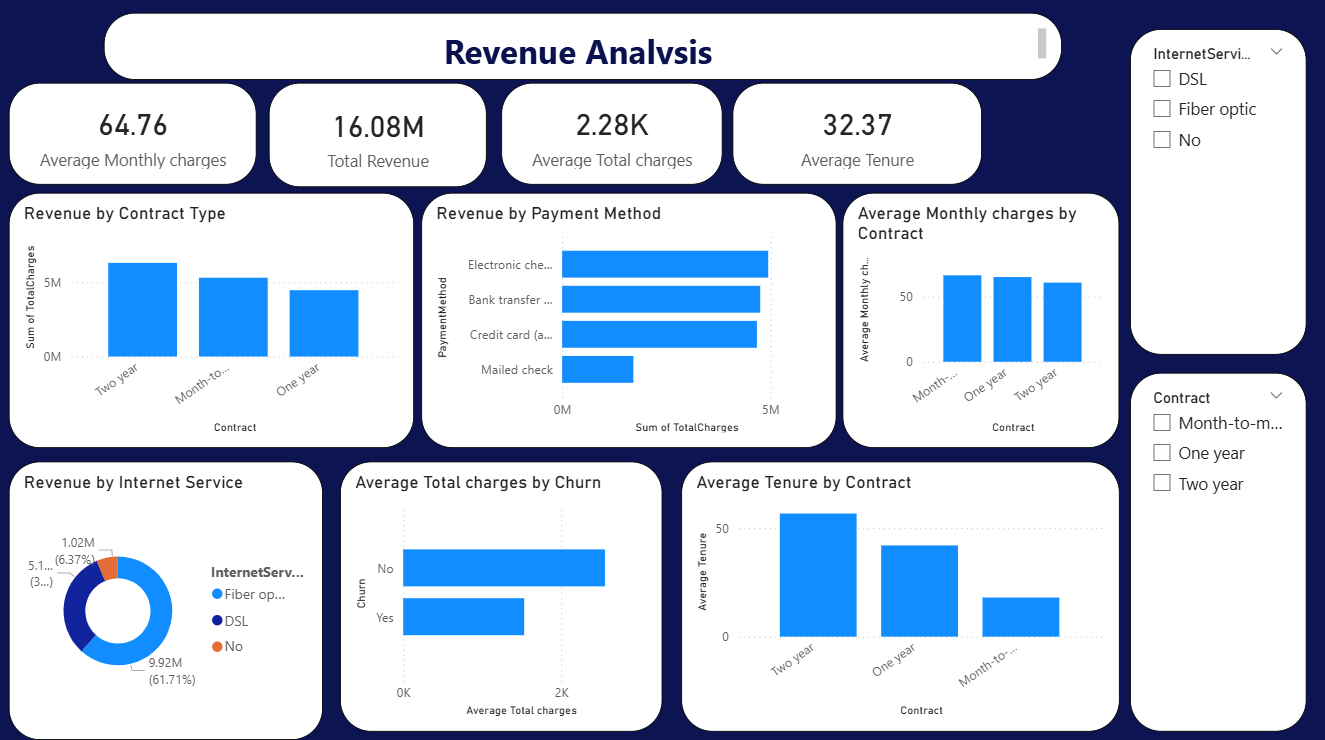

What the dashboard file says about the page in this screenshot:
{"tool":"powerbi","page":{"name":"Revenue Analysis","canvas":[1280,720],"ordinal":3},"visuals":[{"type":"card","fields":{"Values":["customer_churn.Average Monthly charges"]},"box":[8.7,80.8,239.5,98.1],"z":0},{"type":"card","fields":{"Values":["customer_churn.Average Total charges"]},"box":[483.3,80.8,213.5,98.1],"z":1000},{"type":"card","fields":{"Values":["customer_churn.Average Tenure"]},"box":[707,80.8,240.9,98.1],"z":2000},{"type":"card","fields":{"Values":["customer_churn.Total Revenue"]},"box":[259.7,80.8,210.6,101],"z":3000},{"type":"clusteredColumnChart","title":"Revenue by Contract Type","fields":{"Category":["customer_churn.Contract"],"Y":["Sum(customer_churn.TotalCharges)"]},"box":[8.7,187.6,391,246.7],"z":4000},{"type":"clusteredBarChart","title":"Revenue by Payment Method","fields":{"Category":["customer_churn.PaymentMethod"],"Y":["Sum(customer_churn.TotalCharges)"]},"box":[406.9,187.6,401.1,246.7],"z":5000},{"type":"donutChart","title":"Revenue by Internet Service","fields":{"Y":["Sum(customer_churn.TotalCharges)"],"Category":["customer_churn.InternetService"]},"box":[8.2,445.9,303.3,268.9],"z":6000},{"type":"clusteredColumnChart","fields":{"Category":["customer_churn.Contract"],"Y":["customer_churn.Average Monthly charges"]},"box":[813.7,187.6,266.9,246.7],"z":7000},{"type":"clusteredBarChart","fields":{"Category":["customer_churn.Churn"],"Y":["customer_churn.Average Total charges"]},"box":[327.9,445.9,311.5,260.7],"z":8000},{"type":"clusteredColumnChart","fields":{"Category":["customer_churn.Contract"],"Y":["customer_churn.Average Tenure"]},"box":[657.4,445.9,423,260.7],"z":9000},{"type":"slicer","fields":{"Values":["customer_churn.Contract"]},"box":[1090.7,360.7,170.2,346.3],"z":10000},{"type":"slicer","fields":{"Values":["customer_churn.InternetService"]},"box":[1090.2,29.5,170.5,314.8],"z":11000},{"type":"textbox","box":[99.6,13,924.8,64.9],"z":11001}]}

Visuals, with their boxes in screenshot pixels (x1, y1, x2, y2), scaled from the page's 1280x720 canvas onto the 1325x740 screenshot:
card - customer_churn.Average Monthly charges: bbox=(9, 83, 257, 184)
card - customer_churn.Average Total charges: bbox=(500, 83, 721, 184)
card - customer_churn.Average Tenure: bbox=(732, 83, 981, 184)
card - customer_churn.Total Revenue: bbox=(269, 83, 487, 187)
"Revenue by Contract Type" clusteredColumnChart: bbox=(9, 193, 414, 446)
"Revenue by Payment Method" clusteredBarChart: bbox=(421, 193, 836, 446)
"Revenue by Internet Service" donutChart: bbox=(8, 458, 322, 735)
clusteredColumnChart - customer_churn.Contract x customer_churn.Average Monthly charges: bbox=(842, 193, 1119, 446)
clusteredBarChart - customer_churn.Churn x customer_churn.Average Total charges: bbox=(339, 458, 662, 726)
clusteredColumnChart - customer_churn.Contract x customer_churn.Average Tenure: bbox=(681, 458, 1118, 726)
slicer - customer_churn.Contract: bbox=(1129, 371, 1305, 727)
slicer - customer_churn.InternetService: bbox=(1129, 30, 1305, 354)
textbox: bbox=(103, 13, 1060, 80)
